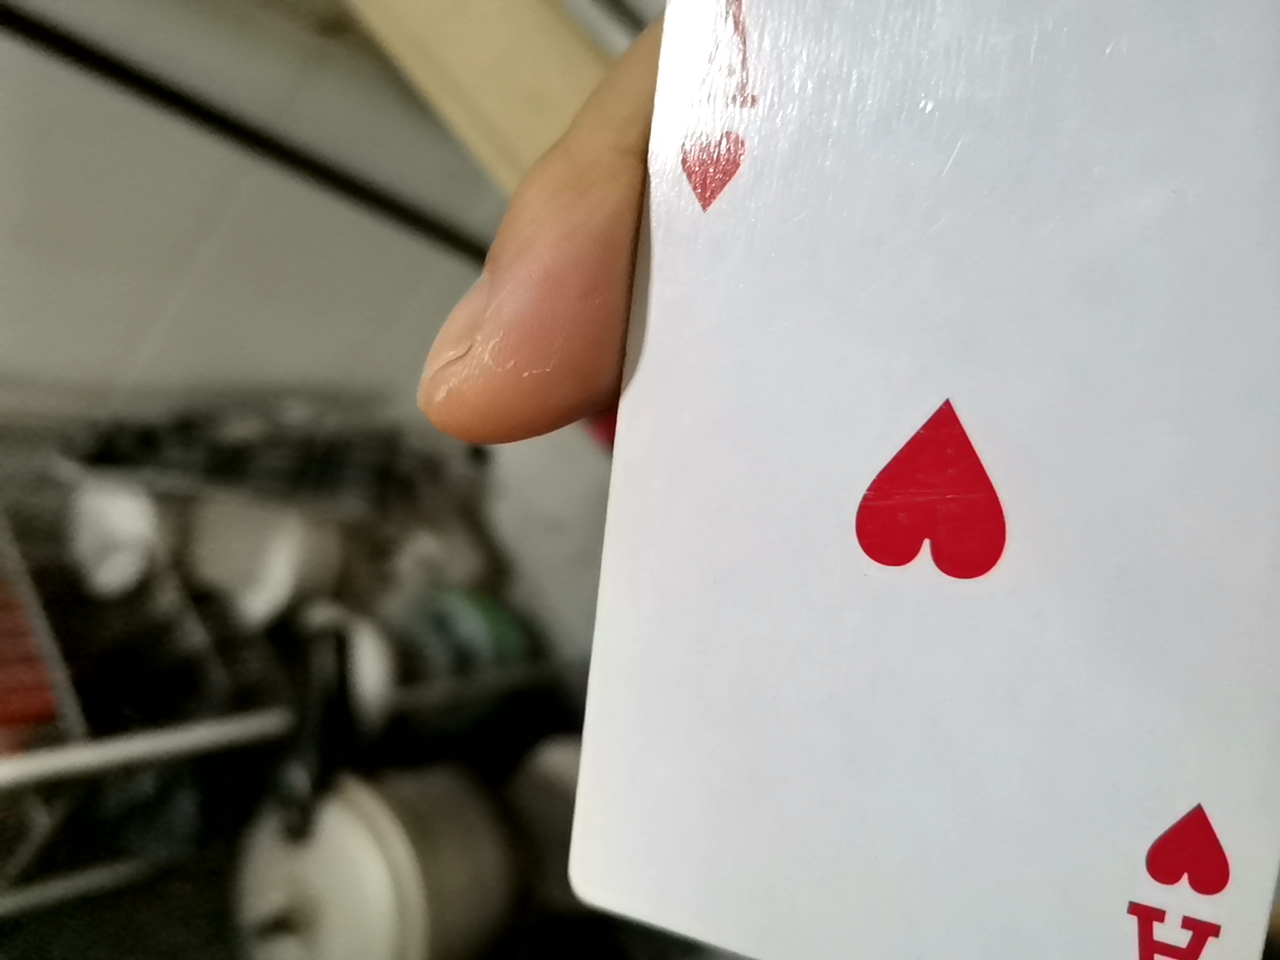hx a: (527, 10, 1274, 955)
